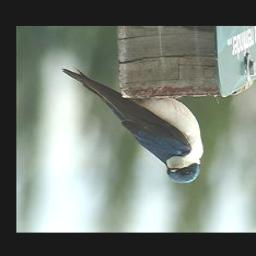Swallow: (61, 67, 205, 184)
